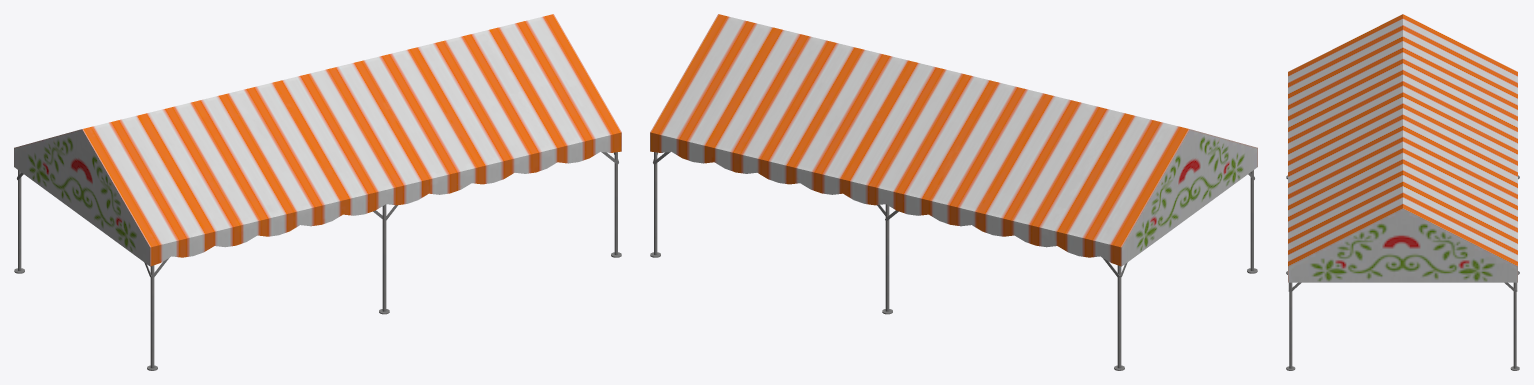
File: objects_un_c01championtent01.gltf
The picture shows the model from 3 angles, left to right: view 1: azimuth 30°, elevation 25°; view 2: azimuth 150°, elevation 25°; view 3: azimuth 270°, elevation 25°; orthographic projection. The views are drawn at different scales.
Visible parts, largest first — view 1: c01championtent01_mesh1_shape:objects_un_c01championtent01_1; view 2: c01championtent01_mesh1_shape:objects_un_c01championtent01_1; view 3: c01championtent01_mesh1_shape:objects_un_c01championtent01_1.
Part boxes in pixels (x1,y1,x2,y2): c01championtent01_mesh1_shape:objects_un_c01championtent01_1: (14, 14, 621, 370); c01championtent01_mesh1_shape:objects_un_c01championtent01_1: (650, 14, 1257, 370); c01championtent01_mesh1_shape:objects_un_c01championtent01_1: (1286, 14, 1519, 370).
Size of what is drawn, in the model's own units: 9.03 by 3.5 by 4.57.
Materials: 1 (1 with a texture image).
